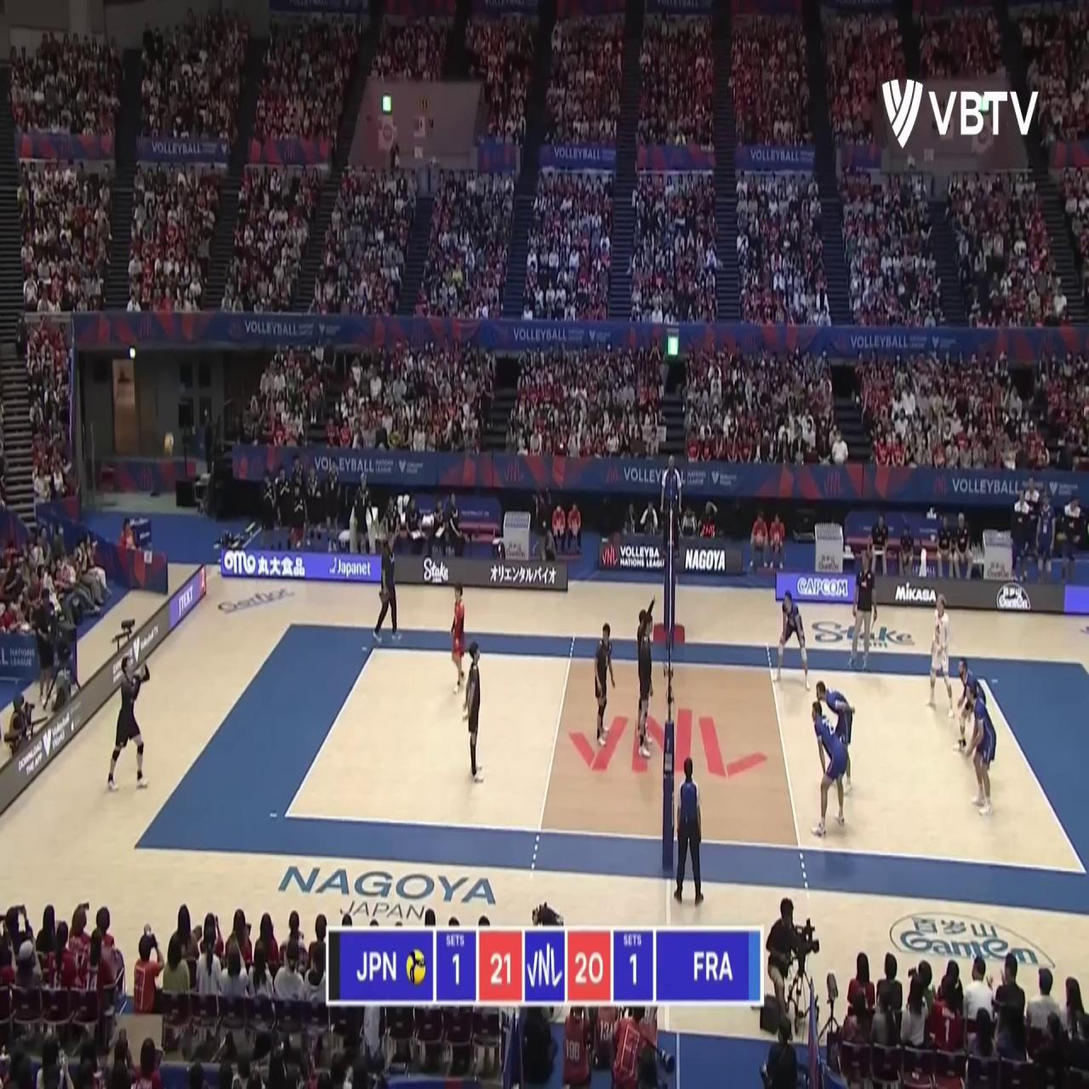ball: (163, 435, 175, 455)
